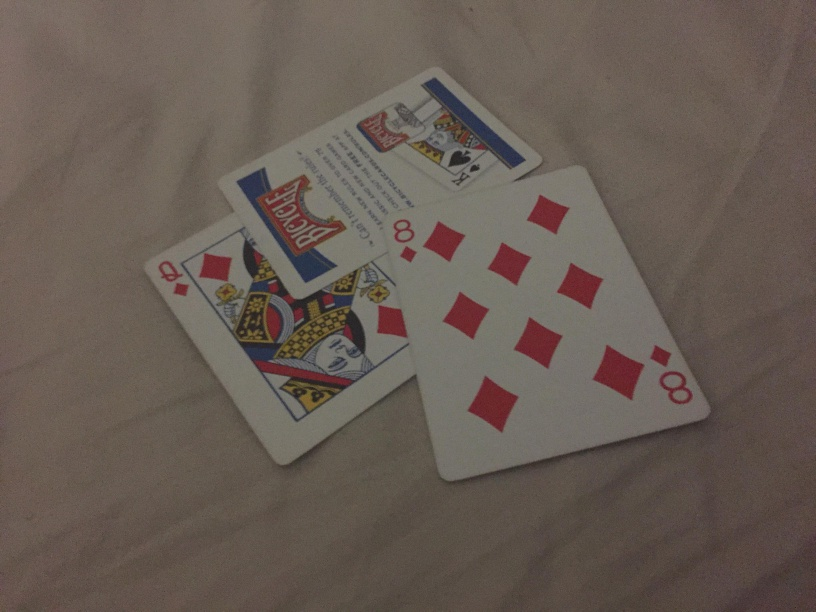8: (375, 170, 714, 486)
queen: (144, 205, 418, 469)
